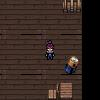Hide: (60, 0, 81, 14)
Obstacle: (46, 80, 74, 100)
Victim: (43, 38, 55, 60)
Win: (62, 54, 81, 74)
